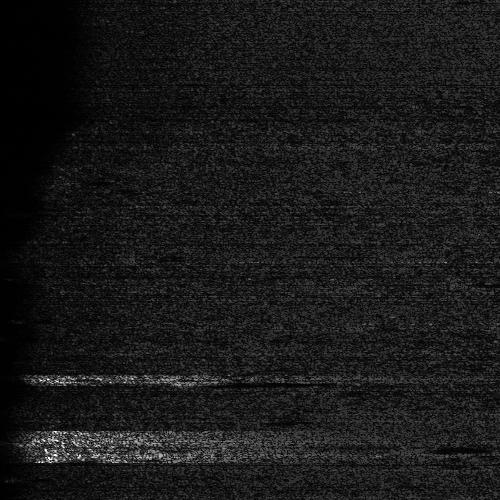rock: (156, 377, 219, 384), (383, 444, 436, 449)
shadow: (188, 377, 315, 384), (410, 444, 466, 449)
